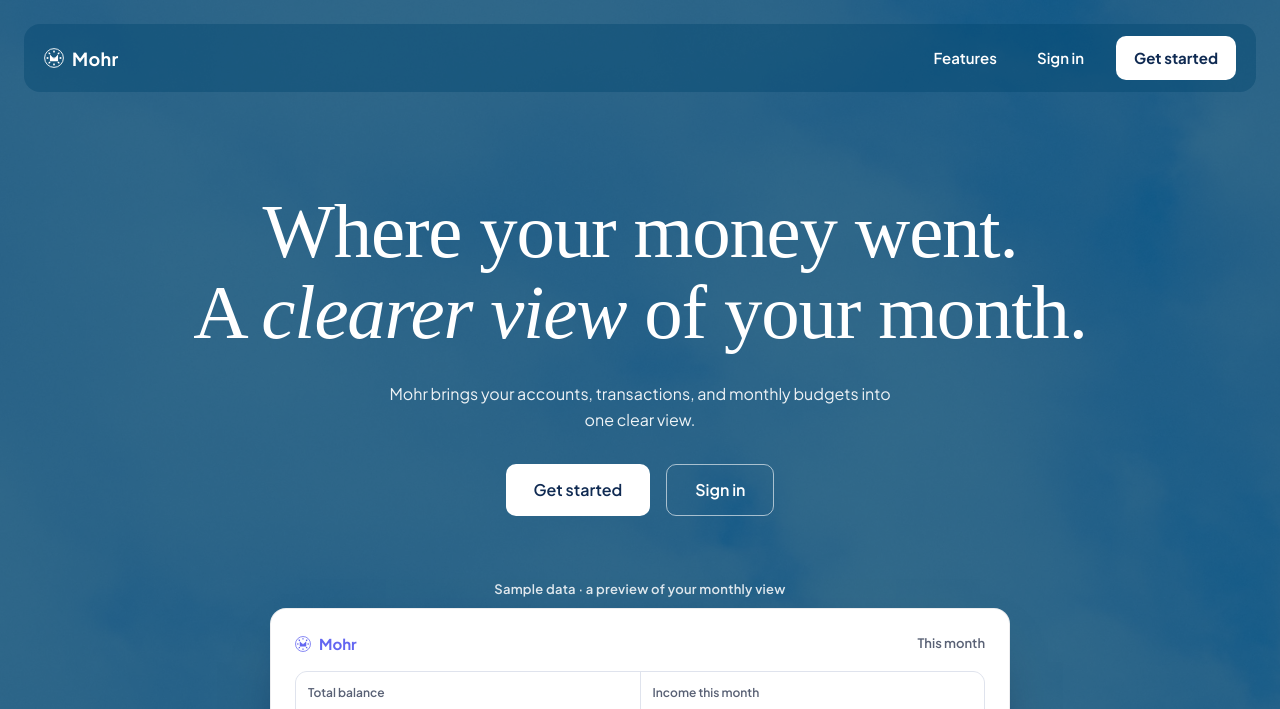
Test case: login › refuses to post credentials when the csrf cookie is missing
The image size is (1280, 709).
Click the link "Sign in" next to "Features" at (1060, 57), box [1037, 48, 1084, 67]
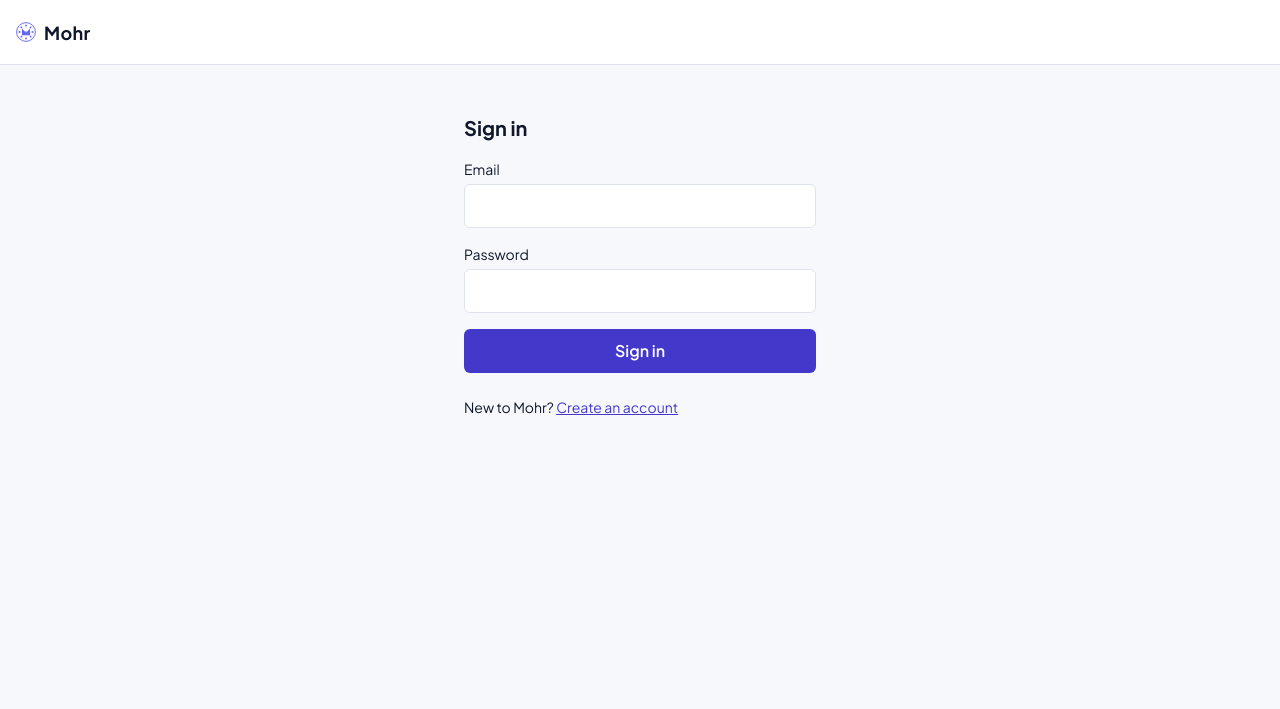
expect the field labelled "Email" is shown: met
Type "me@example.com" into the field labelled "Email" at (640, 206), box [464, 184, 816, 228]
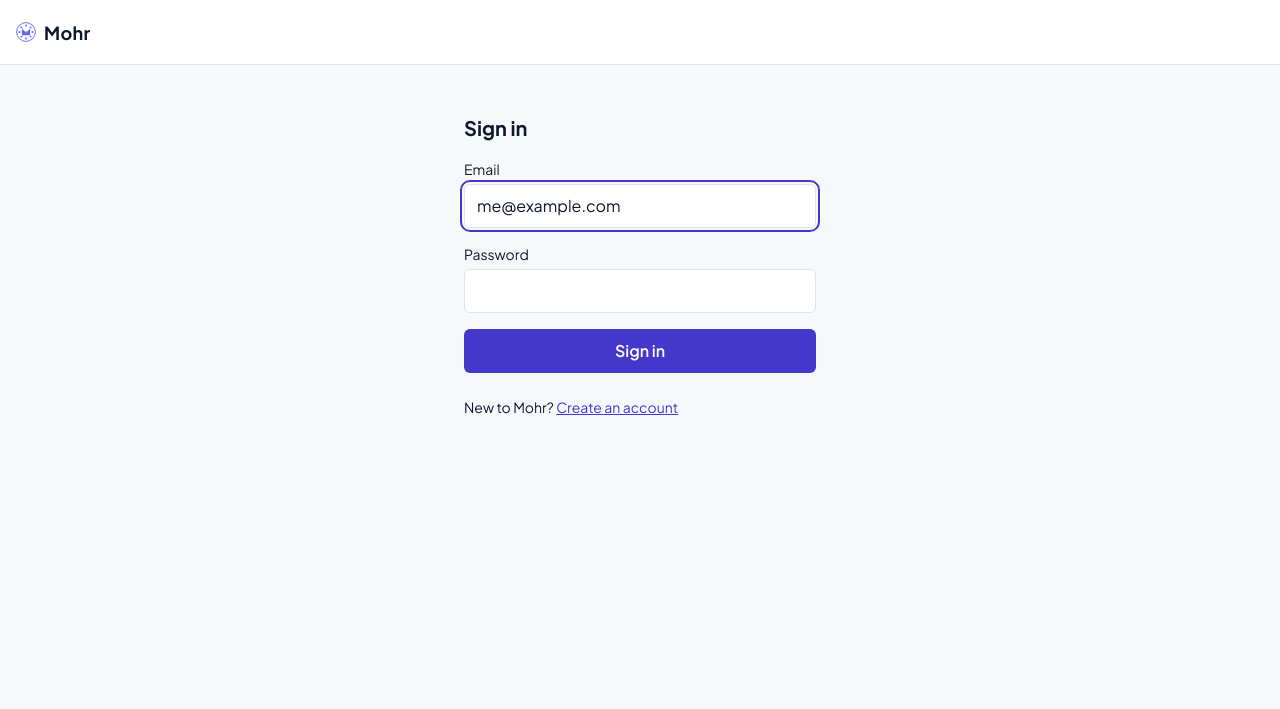
Type "correct-horse" into the password field labelled "Password" at (640, 291), box [464, 269, 816, 313]
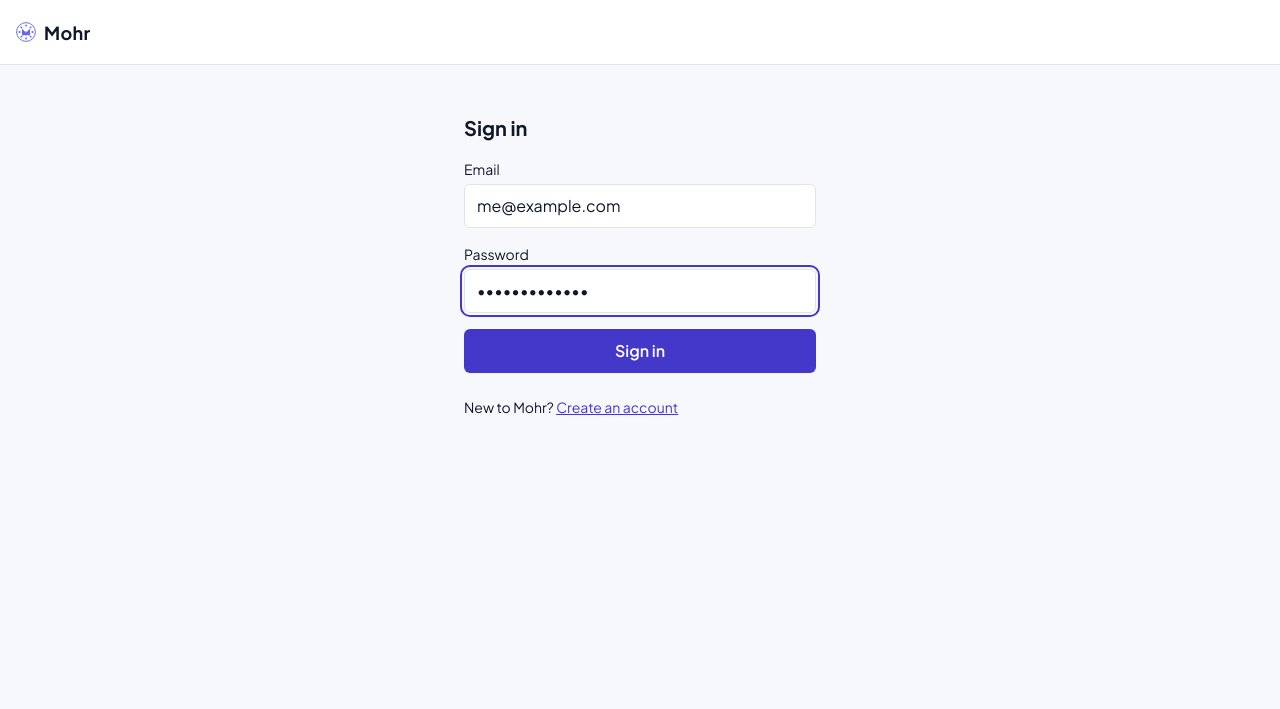
Click the button "Sign in" at (640, 351), box [464, 329, 816, 373]
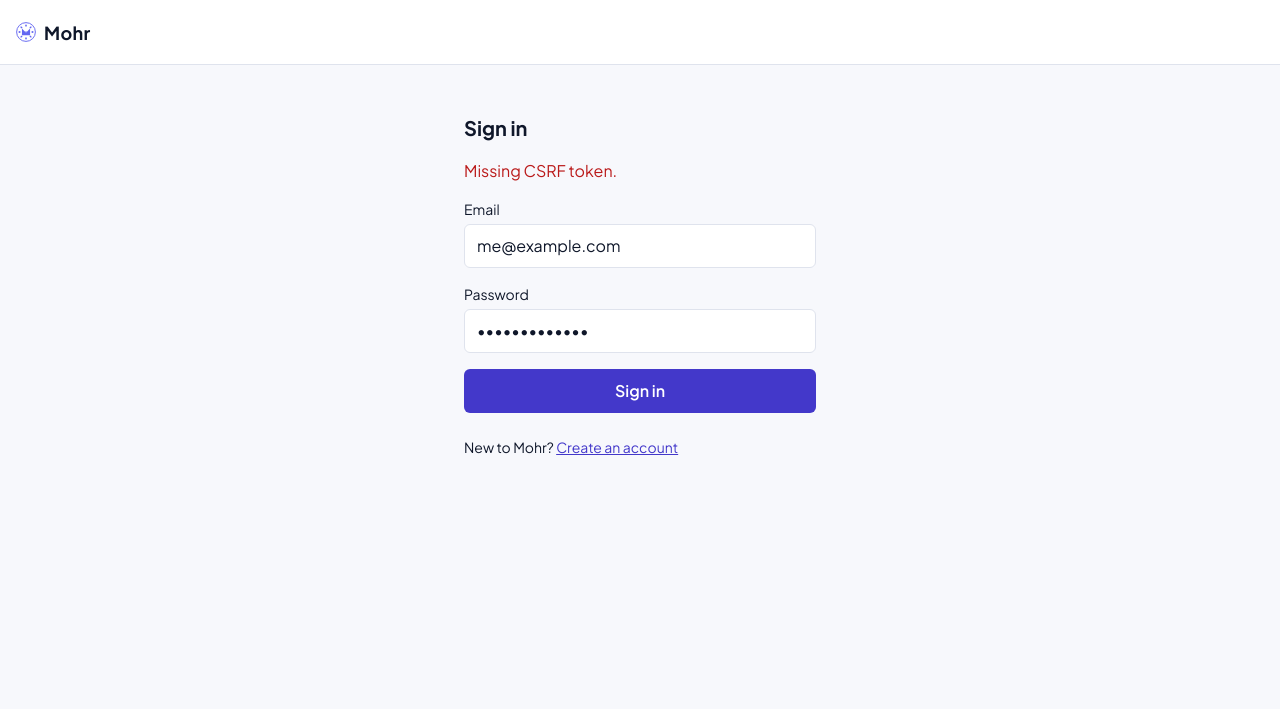
expect the message shows "Missing CSRF token": met, box [464, 160, 617, 181]
